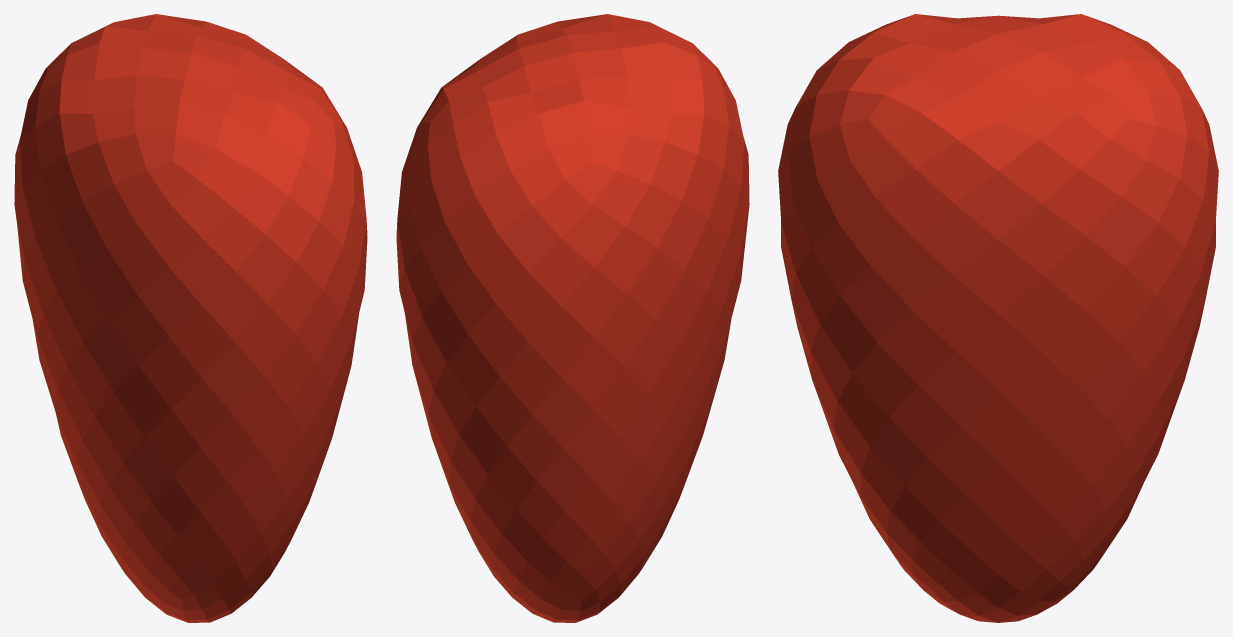
The model's file is strawberry_full_1.glb.
3 renders of one model, left to right at view 1: azimuth 30°, elevation 25°; view 2: azimuth 150°, elevation 25°; view 3: azimuth 270°, elevation 25°, orthographic. The views are drawn at different scales.
Visible parts, largest first — view 1: Strawberry; view 2: Strawberry; view 3: Strawberry.
Part boxes in pixels (x1=…): Strawberry: x1=14, y1=14, x2=367, y2=622; Strawberry: x1=396, y1=14, x2=749, y2=622; Strawberry: x1=778, y1=14, x2=1218, y2=622.
Bounding box in the file's own units: 1.89 × 3.75 × 2.56.
